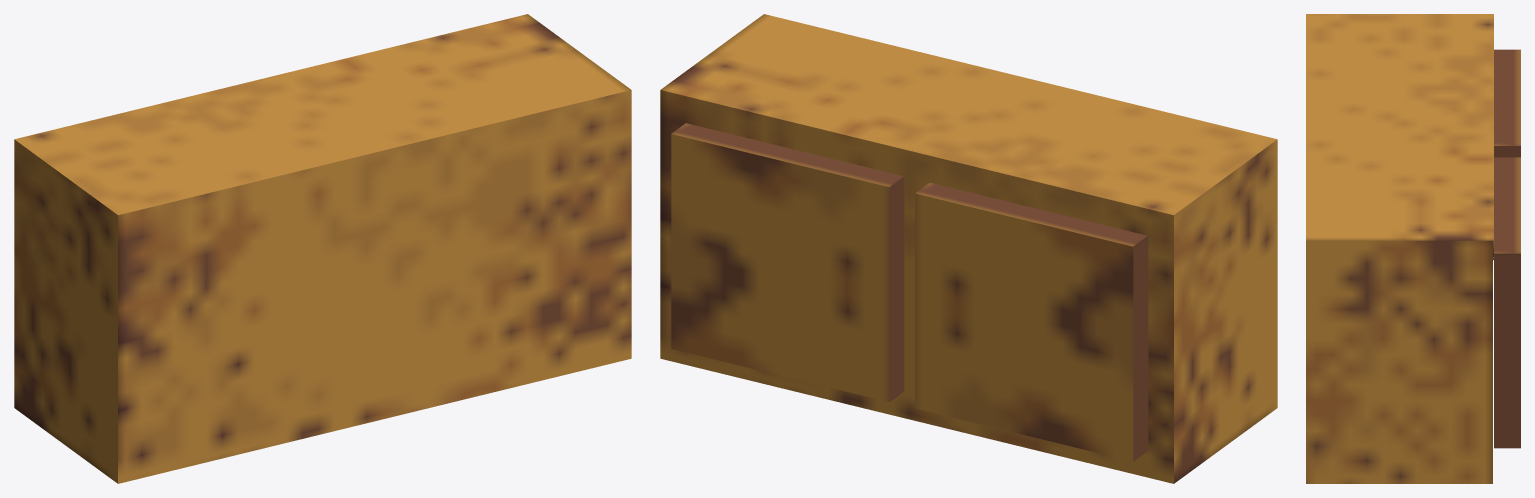
Rendered from Cabinet_TipoA.fbx.
The picture shows the model from 3 angles, left to right: view 1: azimuth 30°, elevation 25°; view 2: azimuth 150°, elevation 25°; view 3: azimuth 270°, elevation 25°; orthographic projection. The views are drawn at different scales.
Parts seen in each view (by area): view 1: Cube.059; view 2: Cube.059, Cube.061, Cube.060; view 3: Cube.059, Cube.060, Cube.061.
Part boxes in pixels (x1,y1,x2,y2): Cube.059: (14,14,631,483); Cube.059: (660,14,1277,483); Cube.061: (915,182,1148,461); Cube.060: (671,123,904,401); Cube.059: (1306,14,1493,483); Cube.060: (1494,157,1520,448); Cube.061: (1494,49,1520,157).
Bounding box in the file's own units: 200 × 100 × 80.
